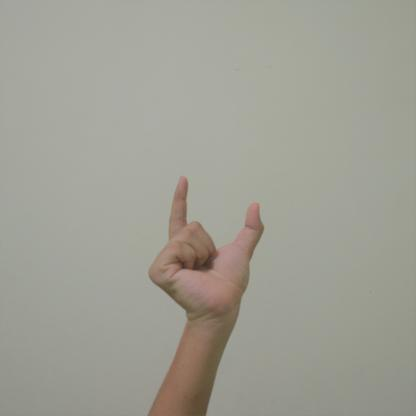U: (146, 174, 267, 322)
